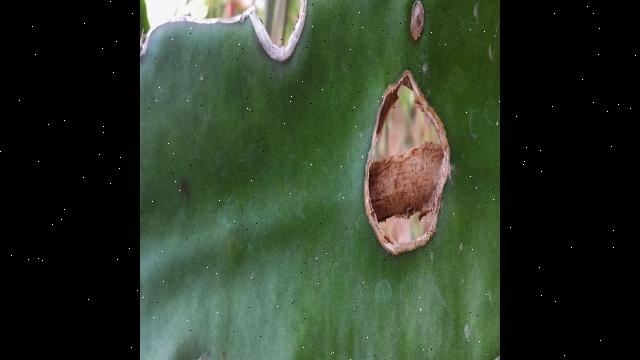stemcanker: (408, 1, 428, 44)
